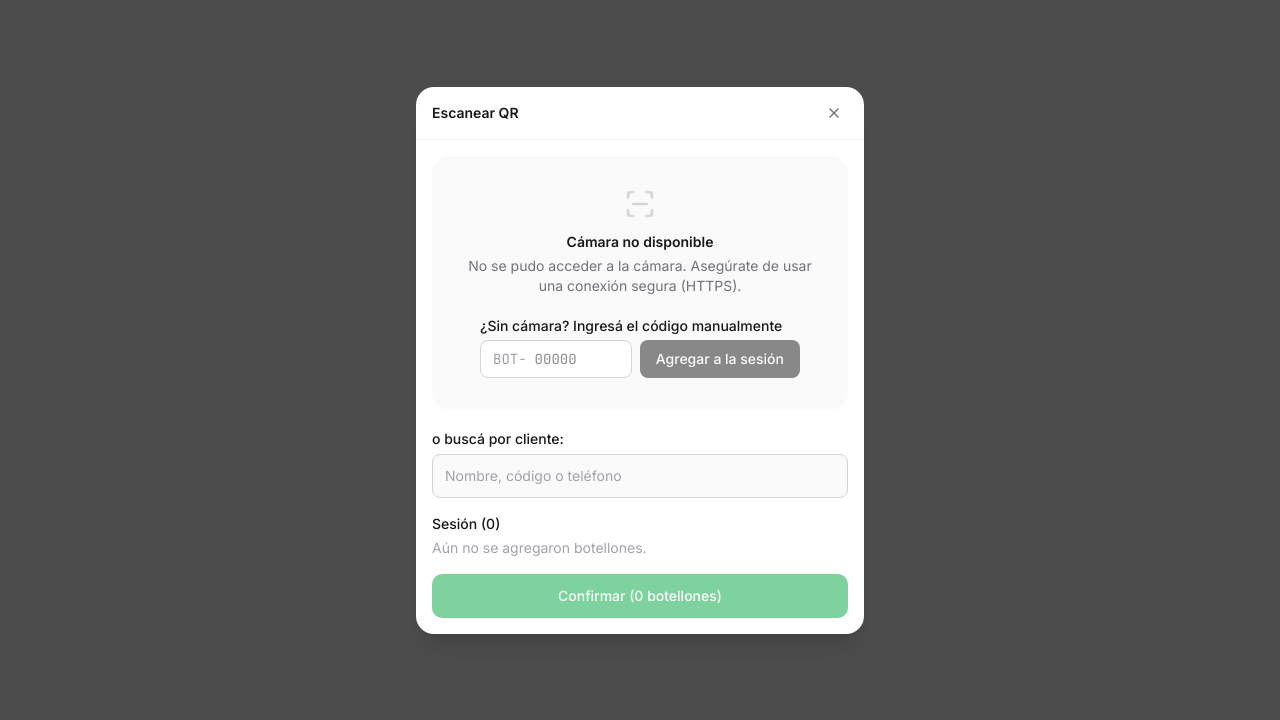
Test case: ScannerModal — manual entry (camera-less fallback) › adds a manually typed code to the session with its pre-filled destino
Type "00001" into the field labelled "¿Sin cámara? Ingresá el código manualmente" at {"x": 579, "y": 358}, box [527,340,631,376]
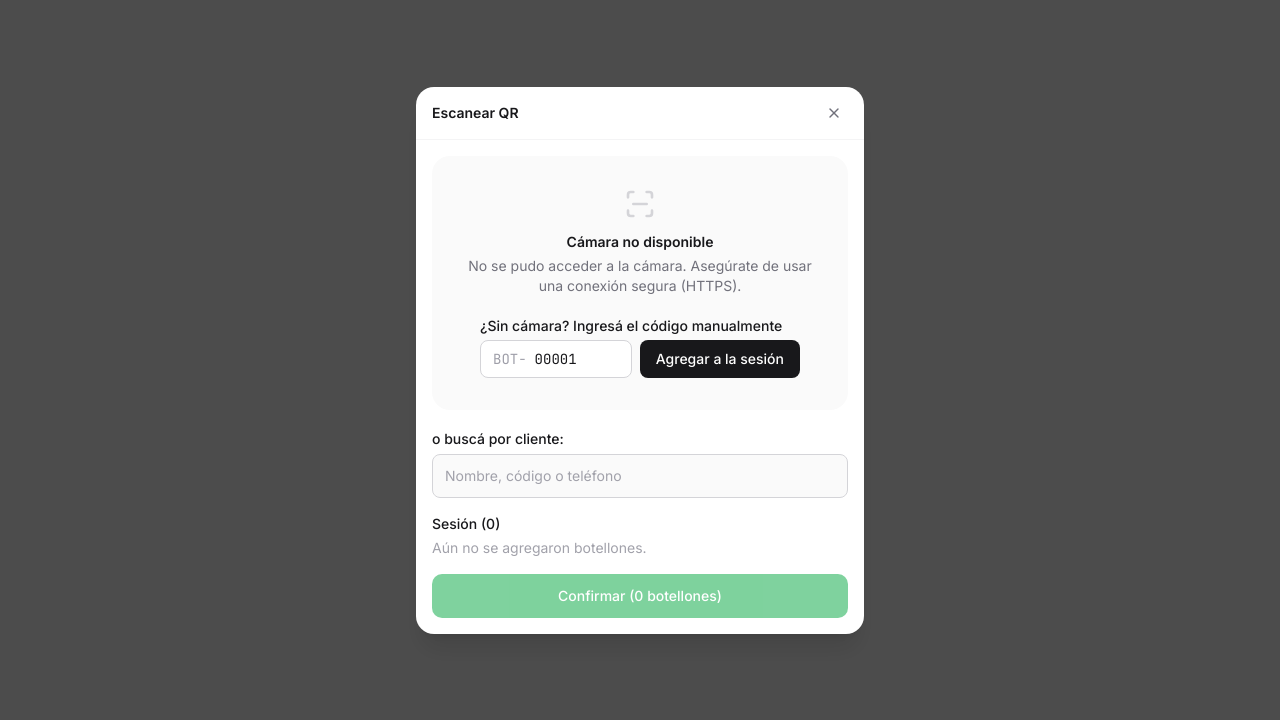
Click the button "Agregar a la sesión" at {"x": 720, "y": 358}, box [640,340,800,378]
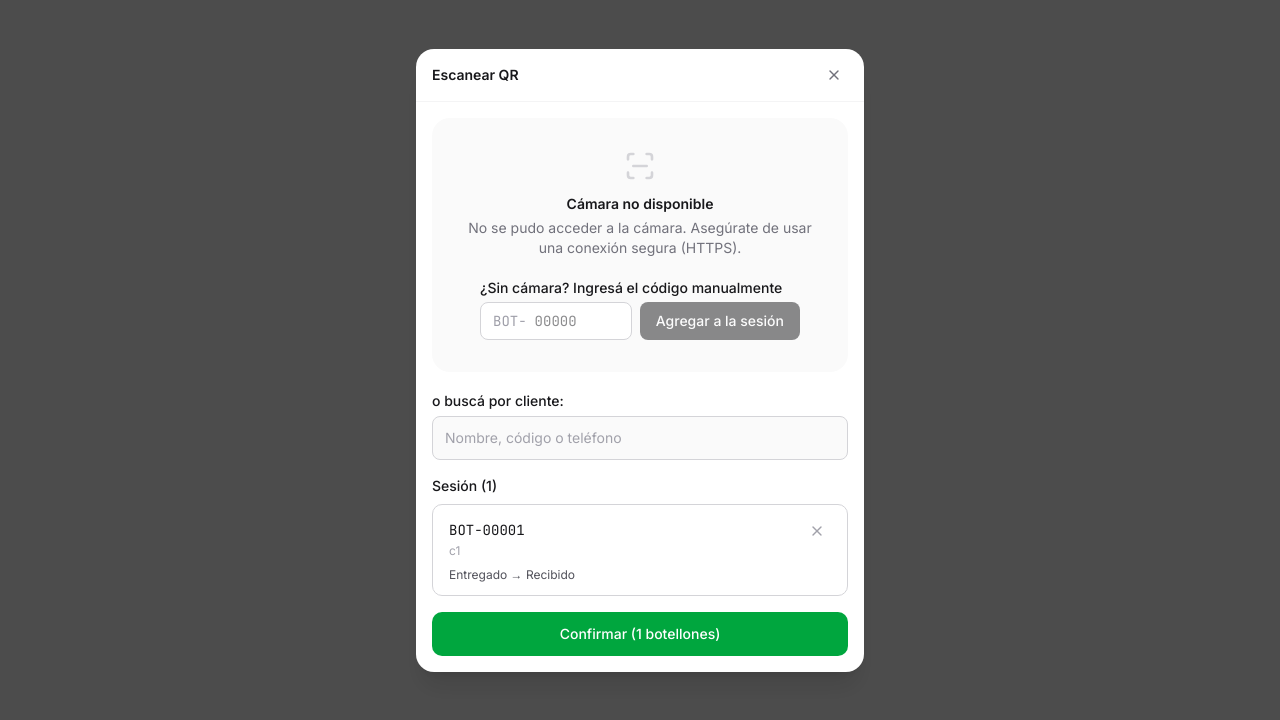
Expected: the heading "Sesión (1)" is shown, [432,476,497,494]
Expected: the text "Entregado → Recibido" is shown, [449,566,575,582]
